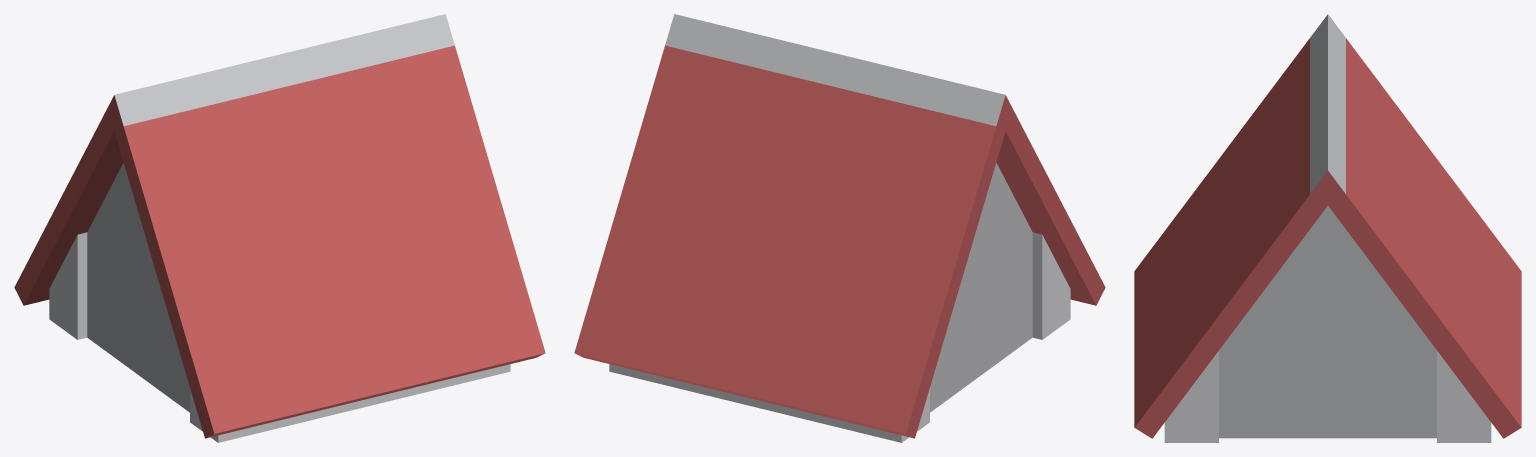
The model's file is Roof_Straight_Red_01.obj.
The picture shows the model from 3 angles, left to right: view 1: azimuth 30°, elevation 25°; view 2: azimuth 150°, elevation 25°; view 3: azimuth 270°, elevation 25°; orthographic projection. The views are drawn at different scales.
Visible parts, largest first — view 1: Mesh1 Roof_Straight_Red Model; view 2: Mesh1 Roof_Straight_Red Model; view 3: Mesh1 Roof_Straight_Red Model.
Part boxes in pixels (x1,y1,x2,y2): Mesh1 Roof_Straight_Red Model: (14,14,545,442); Mesh1 Roof_Straight_Red Model: (574,14,1105,442); Mesh1 Roof_Straight_Red Model: (1134,14,1521,442).
Bounding box in the file's own units: 3.4 × 2.86 × 3.56.
